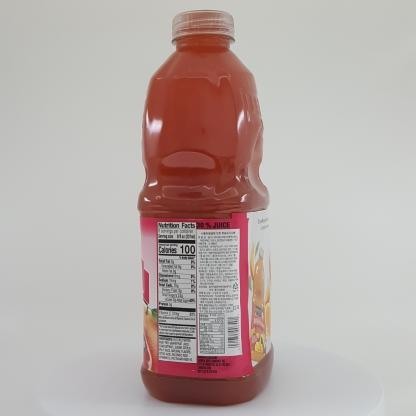-----------1-89L: (137, 10, 274, 406)
